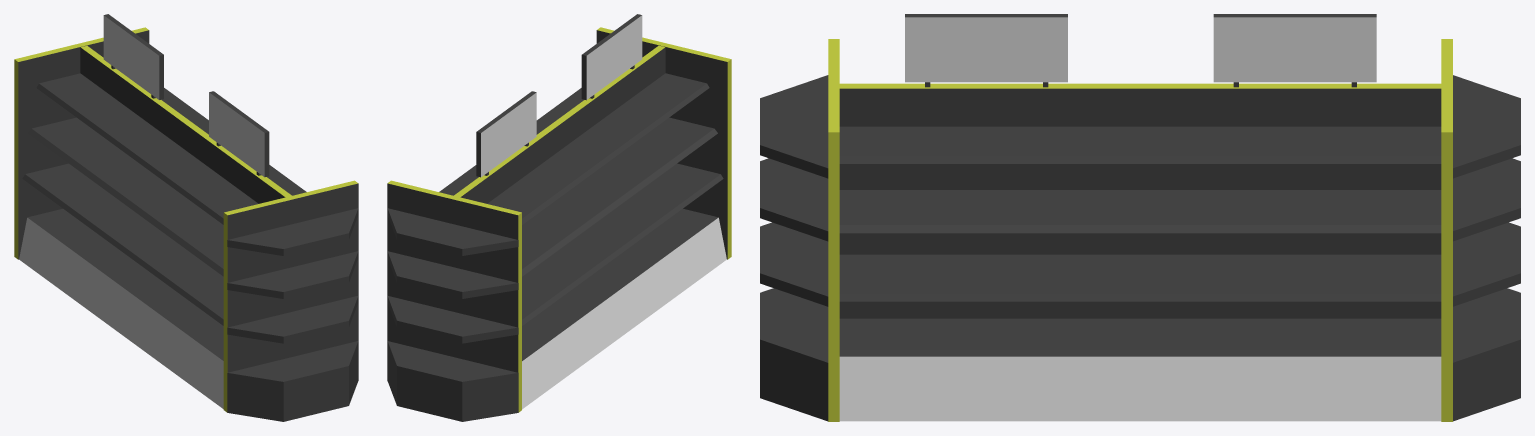
The picture shows the model from 3 angles, left to right: view 1: azimuth 30°, elevation 25°; view 2: azimuth 150°, elevation 25°; view 3: azimuth 270°, elevation 25°; orthographic projection. The views are drawn at different scales.
Visible parts, largest first — view 1: Estante1; view 2: Estante1; view 3: Estante1.
Part boxes in pixels (box(x1,y1,x2,y2)): Estante1: box(14, 14, 358, 421); Estante1: box(387, 14, 731, 421); Estante1: box(760, 14, 1520, 421).
Size of the model in its own units: 0.0307 by 0.055 by 0.1054.
